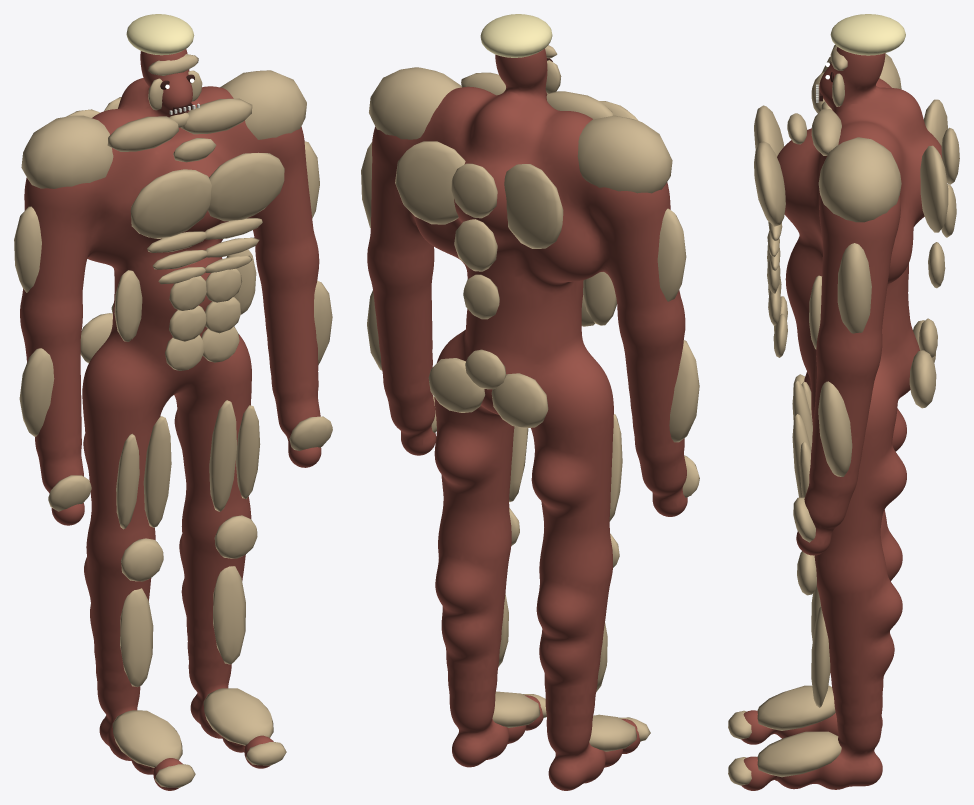
Rendered from armored-titan.glb.
3 views of the same model, side by side, from view 1: azimuth 30°, elevation 25°; view 2: azimuth 150°, elevation 25°; view 3: azimuth 270°, elevation 25° (orthographic). The views are drawn at different scales.
Visible parts, largest first — view 1: Muscle.001, Plates, Scalp; view 2: Muscle.001, Plates, Scalp; view 3: Muscle.001, Plates, Scalp.
Boxes of the visible parts, <box> form: Muscle.001: <box>20,49,321,790</box>; Plates: <box>14,54,332,787</box>; Scalp: <box>126,14,194,55</box>; Muscle.001: <box>367,48,687,790</box>; Plates: <box>361,45,699,751</box>; Scalp: <box>480,14,552,57</box>; Muscle.001: <box>741,47,942,790</box>; Plates: <box>728,44,959,785</box>; Scalp: <box>830,14,905,55</box>.
Bounding box in the file's own units: 6.8 × 15.07 × 4.24.
